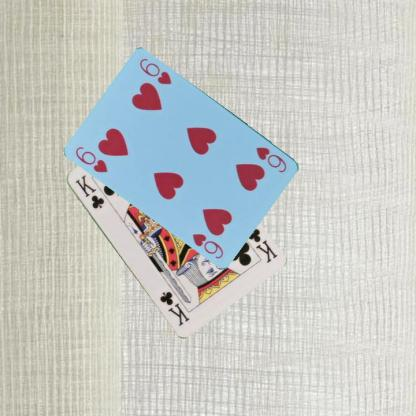6h: (73, 144, 110, 174), (254, 144, 288, 174)
Kc: (244, 226, 278, 265), (72, 172, 105, 210)
